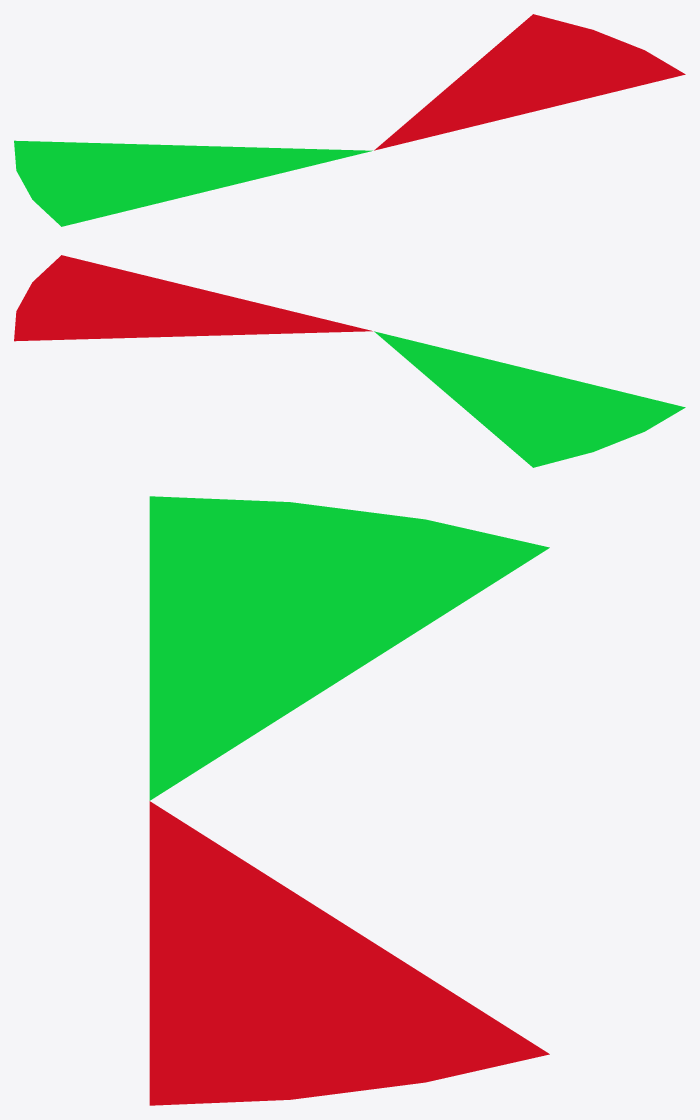
Rendered from gaiger.fbx.
3 renders of one model, top to bottom at view 1: azimuth 30°, elevation 25°; view 2: azimuth 150°, elevation 25°; view 3: azimuth 270°, elevation 25°, orthographic. The views are drawn at different scales.
Parts seen in each view (by area): view 1: Cylinder; view 2: Cylinder; view 3: Cylinder.
Boxes of the visible parts, <box> form: Cylinder: <box>14,14,685,226</box>; Cylinder: <box>14,255,685,467</box>; Cylinder: <box>149,496,549,1105</box>.
Size of the model in its own units: 200 by 9.05e-06 by 55.56.
